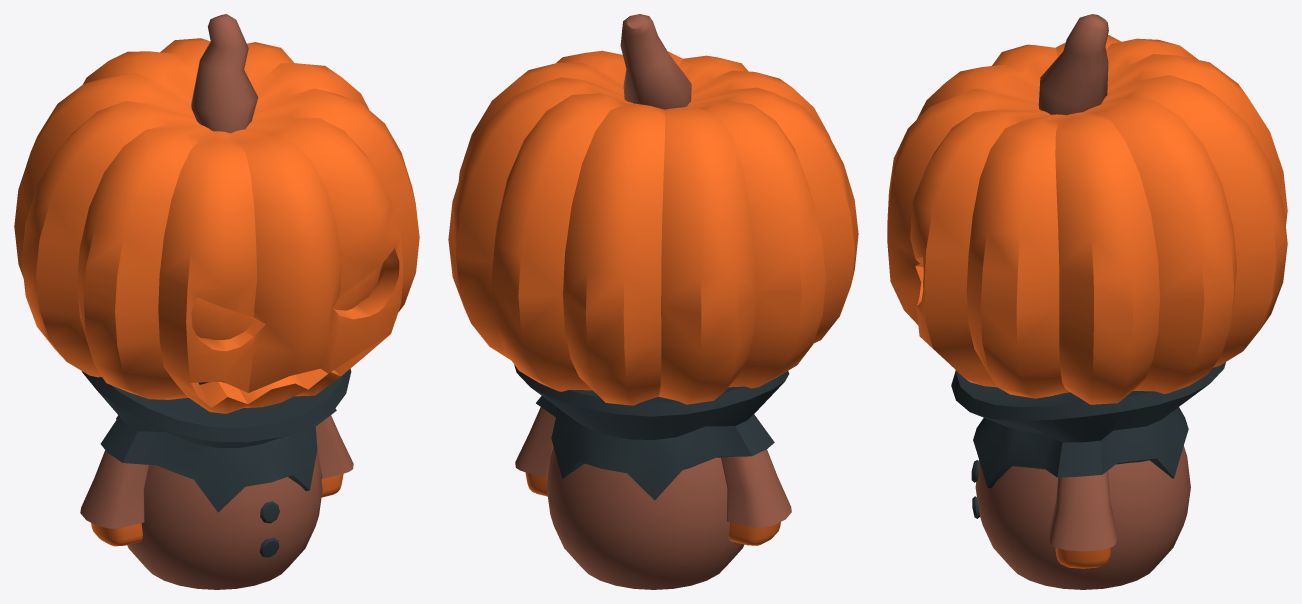
File: character_jack.dae
The picture shows the model from 3 angles, left to right: view 1: azimuth 30°, elevation 25°; view 2: azimuth 150°, elevation 25°; view 3: azimuth 270°, elevation 25°; orthographic projection.
Visible parts, largest first — view 1: character_jackHat, character_jack, character_jackArmRight, character_jackArmLeft.; view 2: character_jackHat, character_jack, character_jackArmRight, character_jackArmLeft.; view 3: character_jackHat, character_jack, character_jackArmLeft..
Boxes of the visible parts, x1=… form: character_jackHat: x1=14, y1=14, x2=419, y2=413; character_jack: x1=81, y1=369, x2=351, y2=589; character_jackArmRight: x1=80, y1=450, x2=148, y2=546; character_jackArmLeft.: x1=315, y1=415, x2=353, y2=497; character_jackHat: x1=448, y1=14, x2=858, y2=405; character_jack: x1=514, y1=365, x2=789, y2=589; character_jackArmRight: x1=721, y1=449, x2=791, y2=545; character_jackArmLeft.: x1=515, y1=407, x2=555, y2=496; character_jackHat: x1=887, y1=14, x2=1287, y2=404; character_jack: x1=951, y1=362, x2=1225, y2=589; character_jackArmLeft.: x1=1049, y1=471, x2=1116, y2=568.
Bounding box in the file's own units: 1.34 × 1.3 × 1.96.
